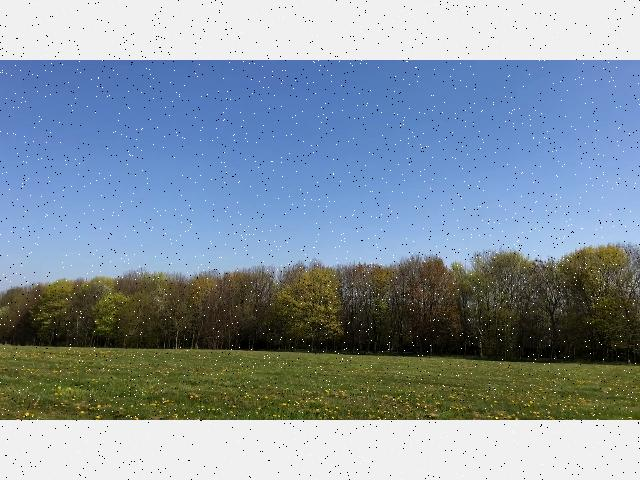Anti-Drone: (303, 195, 321, 205)
